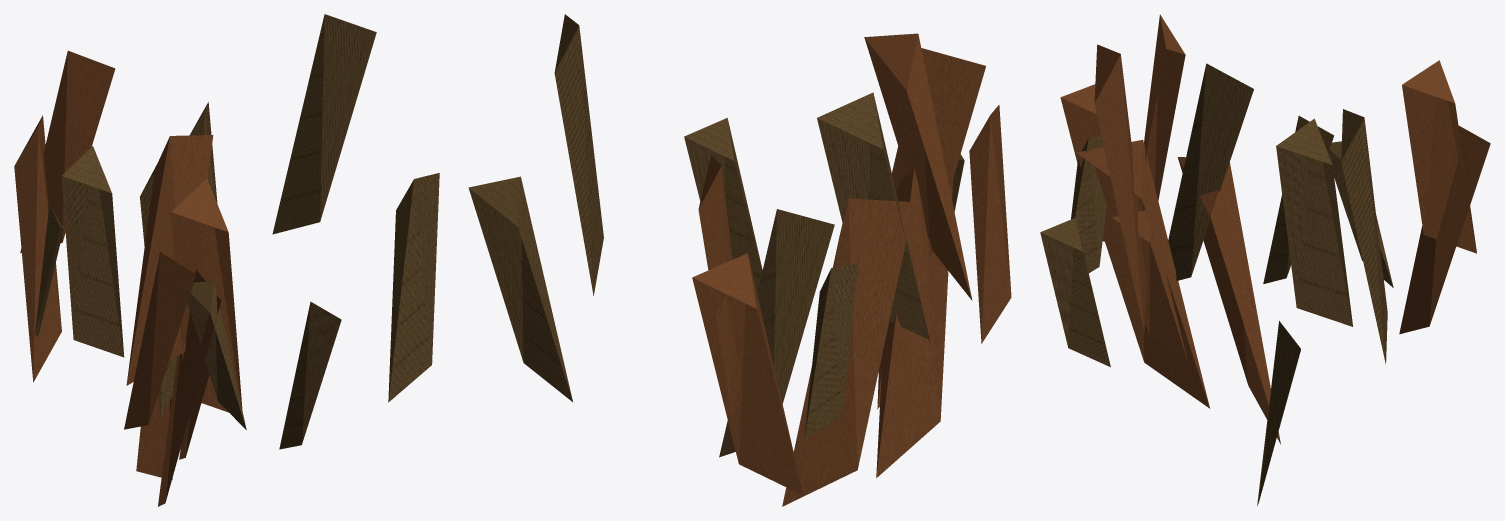
The model's file is leaf_litter_01.fbx.
3 views of the same model, side by side, from view 1: azimuth 30°, elevation 25°; view 2: azimuth 150°, elevation 25°; view 3: azimuth 270°, elevation 25° (orthographic). The views are drawn at different scales.
Visible parts, largest first — view 1: leaf_litter_01_LOD0; view 2: leaf_litter_01_LOD0; view 3: leaf_litter_01_LOD0.
Boxes of the visible parts, x1,y1,x2,y2 form: leaf_litter_01_LOD0: [14, 14, 439, 506]; leaf_litter_01_LOD0: [468, 14, 1011, 506]; leaf_litter_01_LOD0: [1040, 14, 1490, 506].
Size of what is drawn, in the model's own units: 1 by 1 by 1.
